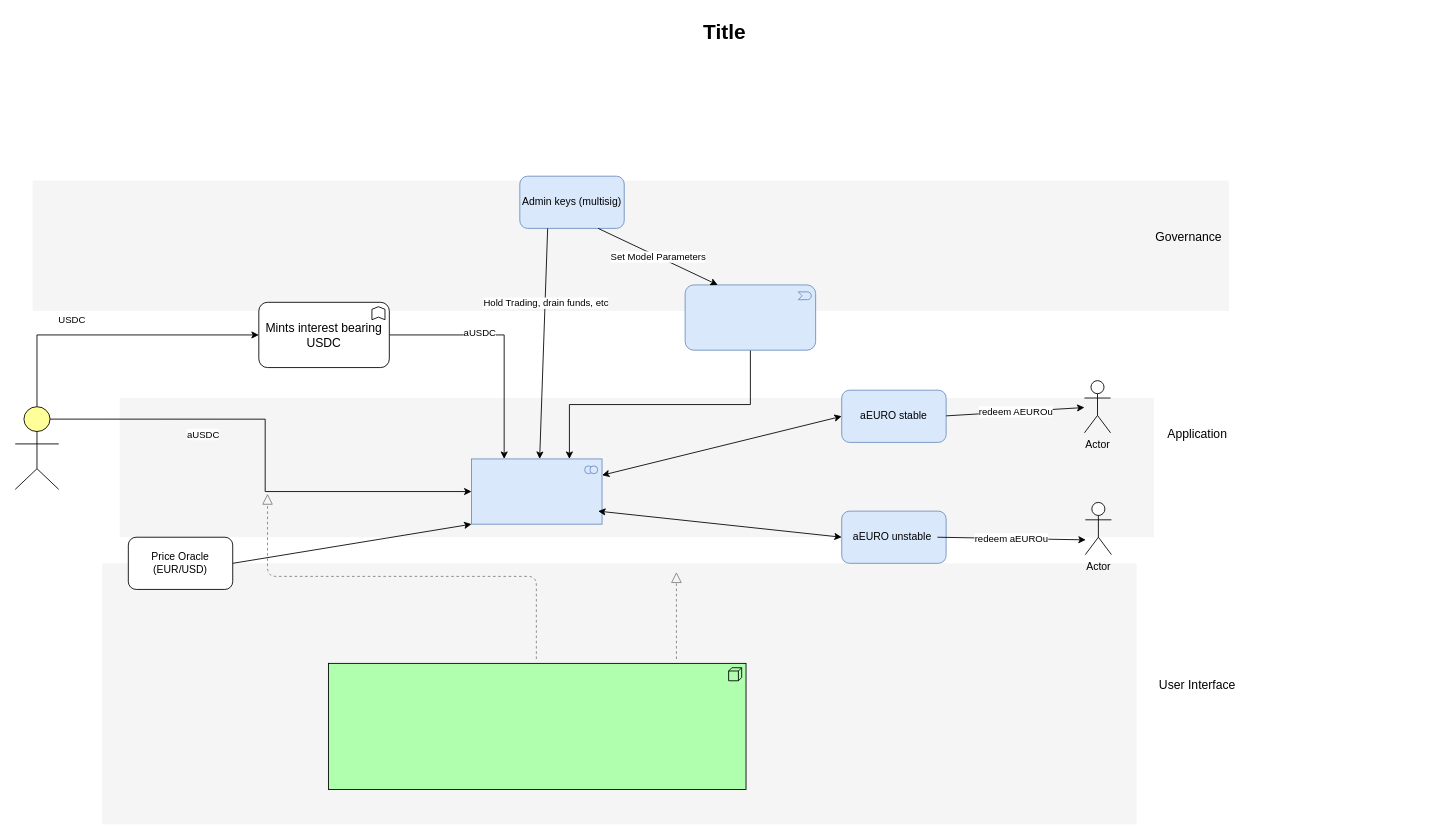
Image size: 1431x839. Some labels were removed from this diagram. The shapes that lost their labels are listed below. From the top down, each one's box as (x1, y1, x2, y2) in pixels, then its label:
(684, 284, 816, 350): Interest Rate Modelling
(471, 458, 602, 524): Main Contract.
(328, 663, 746, 790): Graphical User Interface
